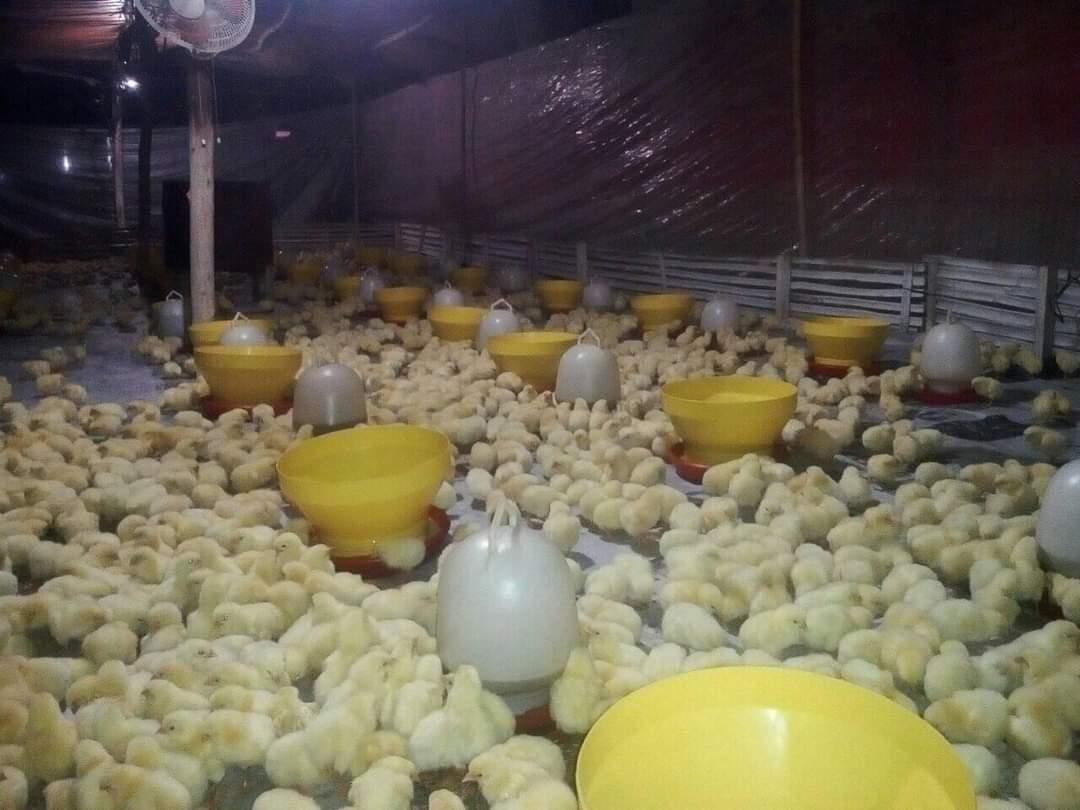chicken: (415, 667, 489, 761), (461, 737, 569, 798), (159, 708, 272, 763), (322, 652, 402, 712), (26, 690, 72, 779), (103, 763, 190, 810), (927, 690, 1009, 737), (554, 646, 597, 731), (351, 758, 419, 808), (1018, 757, 1080, 810), (584, 553, 654, 599), (934, 599, 1007, 642), (739, 604, 806, 649), (362, 580, 438, 619), (807, 601, 876, 643), (209, 686, 307, 715), (664, 601, 724, 645), (211, 602, 286, 636), (83, 619, 137, 663), (928, 640, 972, 692), (542, 502, 579, 547), (174, 638, 219, 673), (1023, 426, 1069, 457), (732, 461, 764, 502), (272, 531, 308, 567), (868, 454, 902, 485), (842, 467, 871, 503), (971, 375, 1007, 402), (1056, 349, 1079, 371)
